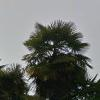Palm tree: (24, 18, 83, 100)
